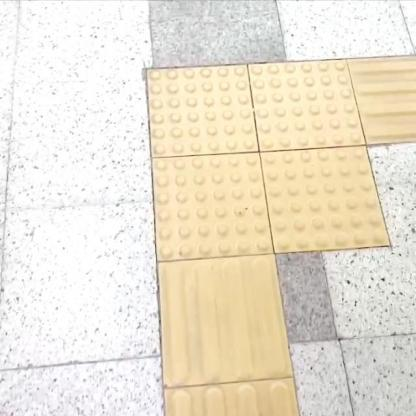podotacti: (127, 32, 416, 303), (157, 262, 300, 415)
